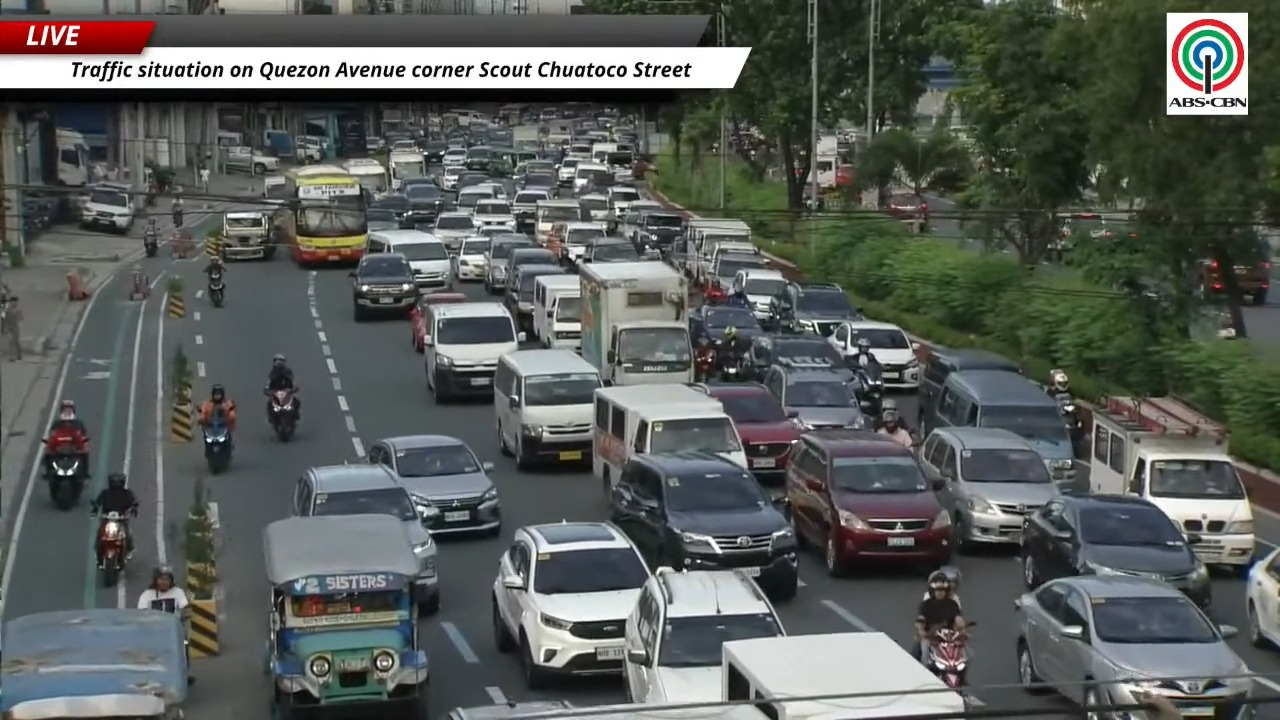bus: (276, 165, 367, 266), (342, 158, 388, 197)
car: (1015, 576, 1254, 717), (609, 451, 797, 600), (492, 522, 650, 689), (786, 430, 952, 575), (624, 568, 785, 704), (292, 464, 439, 612), (1020, 495, 1211, 606), (920, 427, 1059, 552), (367, 435, 500, 534), (693, 383, 799, 477), (918, 348, 1021, 419), (762, 365, 865, 429), (828, 319, 920, 389), (349, 253, 418, 321), (752, 334, 853, 380), (775, 283, 861, 335), (504, 263, 566, 334), (1245, 548, 1279, 647), (483, 234, 537, 294), (411, 292, 465, 352), (730, 267, 787, 319), (79, 182, 135, 233), (689, 304, 762, 343), (444, 700, 574, 719), (705, 252, 767, 289), (552, 222, 606, 263), (401, 179, 445, 224), (433, 210, 477, 254), (883, 192, 928, 232), (454, 235, 491, 281), (512, 188, 550, 231), (581, 236, 640, 262), (473, 200, 515, 231), (455, 184, 494, 215), (366, 193, 409, 221), (366, 207, 405, 231), (579, 193, 610, 221), (440, 156, 465, 190), (517, 172, 557, 193), (514, 159, 554, 180), (456, 171, 491, 192), (418, 139, 447, 164), (557, 158, 579, 187), (441, 147, 466, 171), (478, 181, 507, 199)
motorcycle: (46, 440, 87, 510), (924, 628, 967, 690), (96, 512, 128, 587), (850, 360, 884, 416), (1055, 393, 1084, 455), (266, 388, 297, 442), (203, 422, 232, 475), (718, 349, 750, 381), (694, 347, 715, 381), (207, 270, 225, 308), (703, 283, 727, 304), (143, 230, 158, 257)
truck: (1089, 397, 1254, 572), (721, 632, 967, 719), (592, 384, 747, 497), (579, 262, 692, 384), (221, 210, 275, 259), (55, 128, 90, 187), (342, 159, 388, 197), (221, 145, 279, 175), (812, 134, 842, 189), (387, 151, 427, 191)
